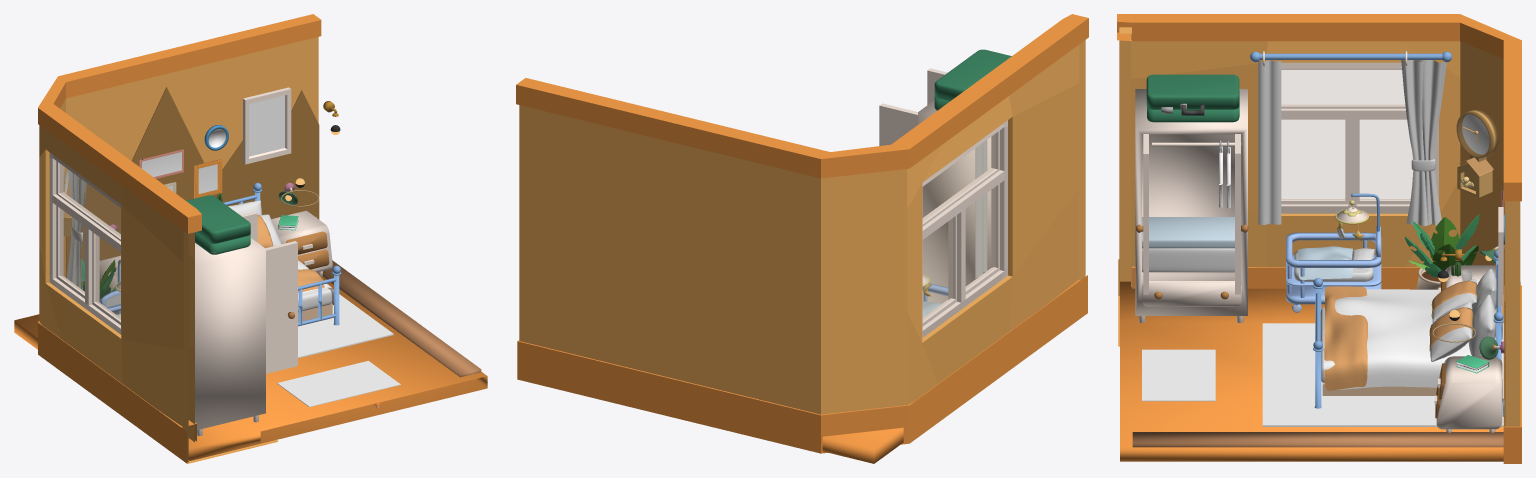
The model's file is bedroom.glb.
The picture shows the model from 3 angles, left to right: view 1: azimuth 30°, elevation 25°; view 2: azimuth 150°, elevation 25°; view 3: azimuth 270°, elevation 25°; orthographic projection. The views are drawn at different scales.
Parts seen in each view (by area): view 1: 立方体, 平面.010, 立方体.006, 立方体.001, 立方体.071, 立方体.051, 平面, 立方体.011, 立方体.024, 立方体.010, 立方体.018, 立方体.035 (+11 smaller); view 2: 立方体, 立方体.011, 立方体.001, 立方体.051, 平面, 立方体.006, 平面.010, 立方体.037, 平面.001, 立方体.025; view 3: 立方体, 平面.010, 立方体.001, 平面, 立方体.006, 立方体.034, 平面.002, 立方体.051, 立方体.010, 平面.008, 立方体.003, 平面.001 (+32 smaller).
Boxes of the visible parts, x1,y1,x2,y2 form: 立方体: (39,37,318,462); 平面.010: (14,277,487,460); 立方体.006: (195,238,265,429); 立方体.001: (38,14,321,233); 立方体.071: (66,87,319,277); 立方体.051: (49,152,121,334); 平面: (60,164,120,319); 立方体.011: (38,320,277,463); 立方体.024: (266,241,297,373); 立方体.010: (317,260,481,377); 立方体.018: (243,87,291,164); 立方体.035: (277,361,400,407); 立方体: (519,40,1085,414); 立方体.011: (517,275,1087,453); 立方体.001: (516,14,1088,178); 立方体.051: (922,120,1007,337); 平面: (923,134,995,319); 立方体.006: (918,100,991,303); 平面.010: (822,427,903,463); 立方体.037: (934,49,1011,100); 平面.001: (975,140,987,278); 立方体.025: (879,103,917,145); 立方体: (1119,27,1520,426); 平面.010: (1120,281,1520,461); 立方体.001: (1117,14,1521,201); 平面: (1281,70,1412,199); 立方体.006: (1135,89,1247,315); 立方体.034: (1262,323,1503,426); 平面.002: (1324,289,1495,389); 立方体.051: (1281,62,1438,213); 立方体.010: (1132,432,1503,447); 平面.008: (1401,60,1446,226); 立方体.003: (1436,356,1502,429); 平面.001: (1258,60,1281,224).
Size of what is drawn, in the model's own units: 7.8 by 6.08 by 7.87.
